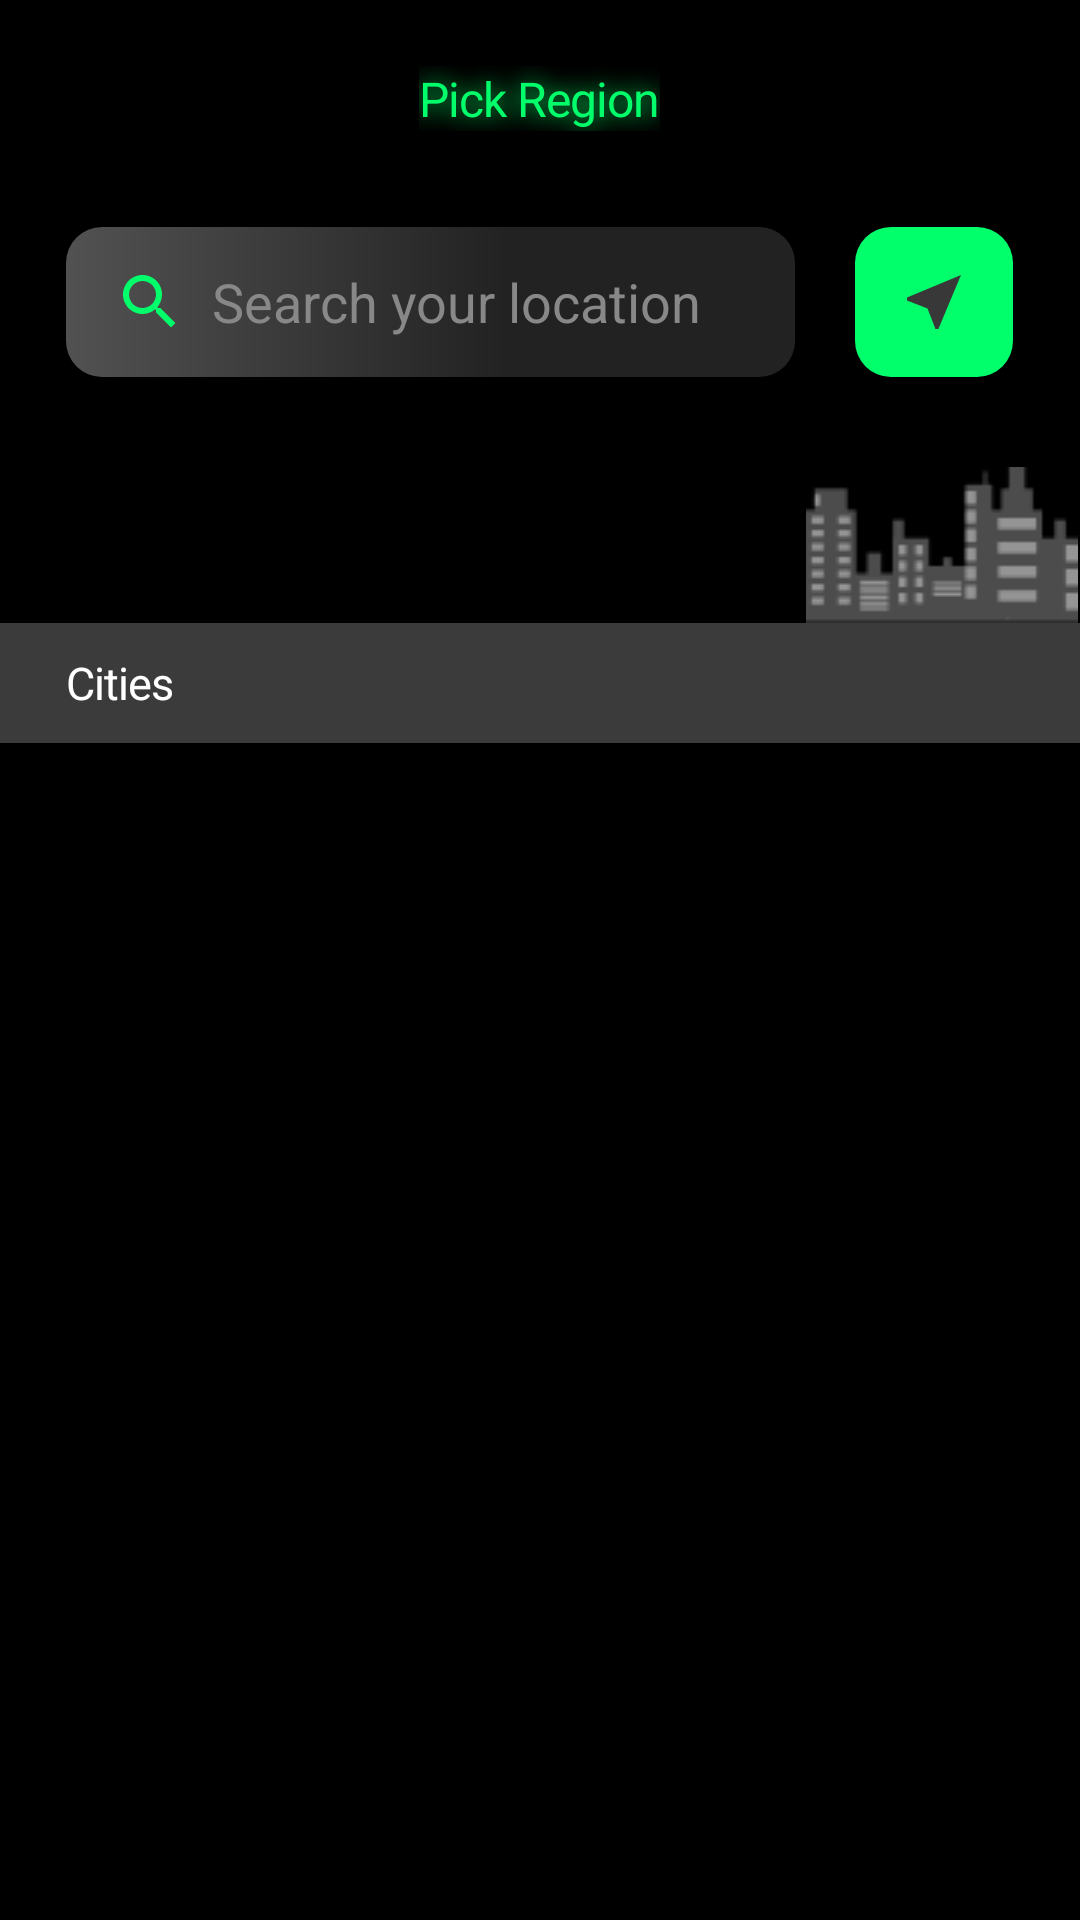

Locate icon controls on the screen. Image size 1080px×1920px, boxes as [x1=x1, y1=y1, x2=x2, y2=y2].
near me: [x1=907, y1=275, x2=961, y2=329]
